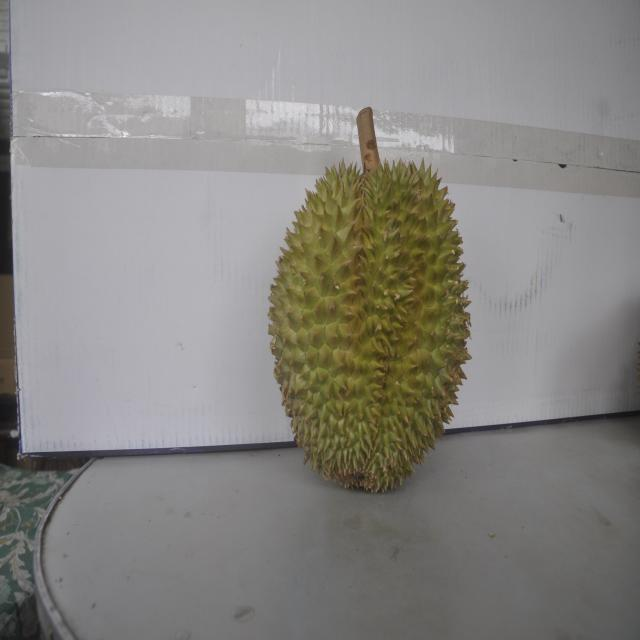mature: (270, 130, 464, 491)
